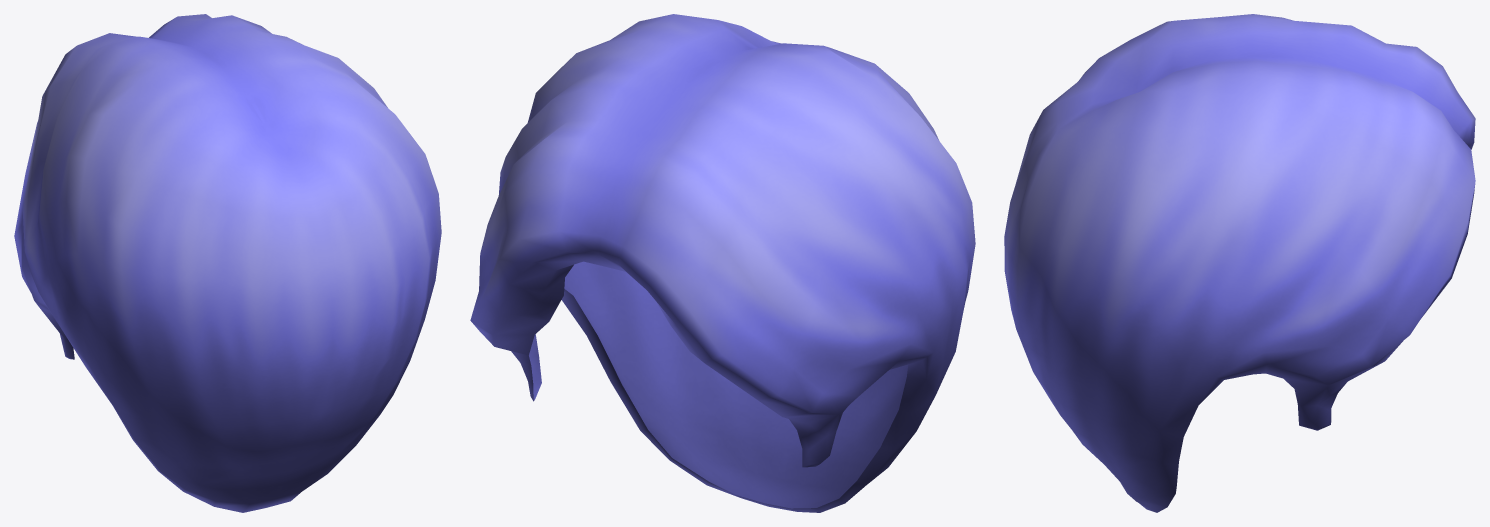
File: Hair_Male_003_textured_sky.glb
The picture shows the model from 3 angles, left to right: view 1: azimuth 30°, elevation 25°; view 2: azimuth 150°, elevation 25°; view 3: azimuth 270°, elevation 25°; orthographic projection. The views are drawn at different scales.
Parts seen in each view (by area): view 1: Hair_Male_003; view 2: Hair_Male_003; view 3: Hair_Male_003.
Part boxes in pixels (left/top/right/bottom): Hair_Male_003: left=14, top=14, right=441, bottom=512; Hair_Male_003: left=470, top=14, right=975, bottom=512; Hair_Male_003: left=1004, top=14, right=1475, bottom=512.
Size of the model in its own units: 0.2155 by 0.2438 by 0.2307.
1 material, 1 textured.
